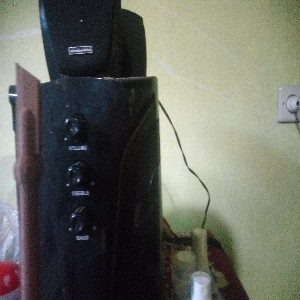cutter: (12, 62, 43, 300)
